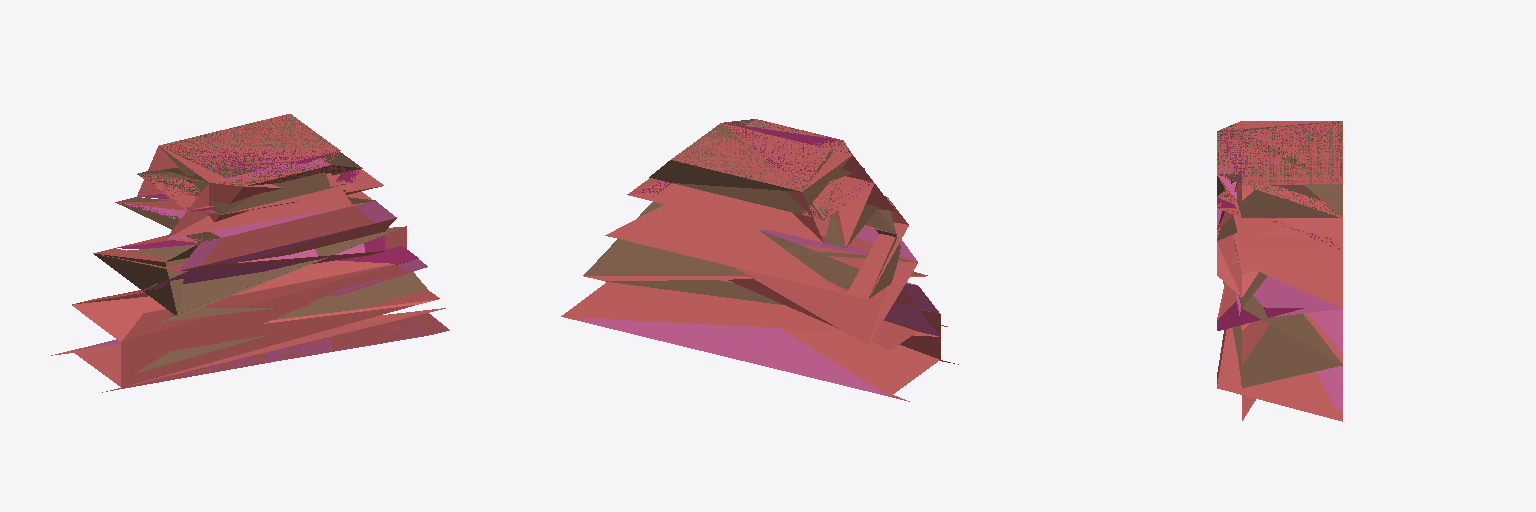
3 views of the same model, side by side, from view 1: azimuth 30°, elevation 25°; view 2: azimuth 150°, elevation 25°; view 3: azimuth 270°, elevation 25° (orthographic).
Size of the model in its own units: 16 by 9 by 5.
Materials: 1 (1 with a texture image).